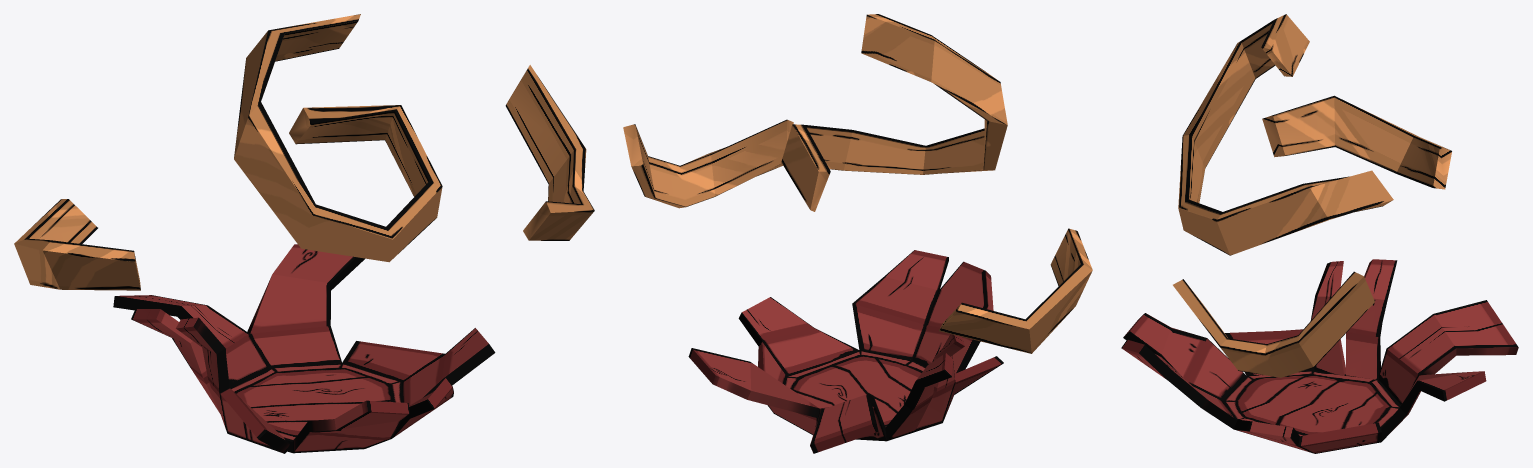
File: barrel exp rumble.fbx
3 renders of one model, left to right at view 1: azimuth 30°, elevation 25°; view 2: azimuth 150°, elevation 25°; view 3: azimuth 270°, elevation 25°, orthographic. The views are drawn at different scales.
Visible parts, largest first — view 1: barrel exp rumble.001, barrel exp rumble.002, barrel exp rumble.003, barrel exp rumble; view 2: barrel exp rumble.001, barrel exp rumble.002, barrel exp rumble.003, barrel exp rumble; view 3: barrel exp rumble.001, barrel exp rumble.002, barrel exp rumble, barrel exp rumble.003.
Boxes of the visible parts, x1=… form: barrel exp rumble.001: x1=113, y1=244, x2=495, y2=453; barrel exp rumble.002: x1=234, y1=14, x2=442, y2=262; barrel exp rumble.003: x1=505, y1=65, x2=594, y2=240; barrel exp rumble: x1=14, y1=199, x2=140, y2=290; barrel exp rumble.001: x1=688, y1=250, x2=1003, y2=453; barrel exp rumble.002: x1=781, y1=14, x2=1007, y2=211; barrel exp rumble.003: x1=623, y1=119, x2=793, y2=208; barrel exp rumble: x1=939, y1=228, x2=1092, y2=353; barrel exp rumble.001: x1=1121, y1=259, x2=1518, y2=453; barrel exp rumble.002: x1=1178, y1=14, x2=1393, y2=255; barrel exp rumble: x1=1262, y1=95, x2=1451, y2=189; barrel exp rumble.003: x1=1173, y1=271, x2=1374, y2=377.
Size of the model in its own units: 249 by 186 by 179.
Materials: 1 (1 with a texture image).
